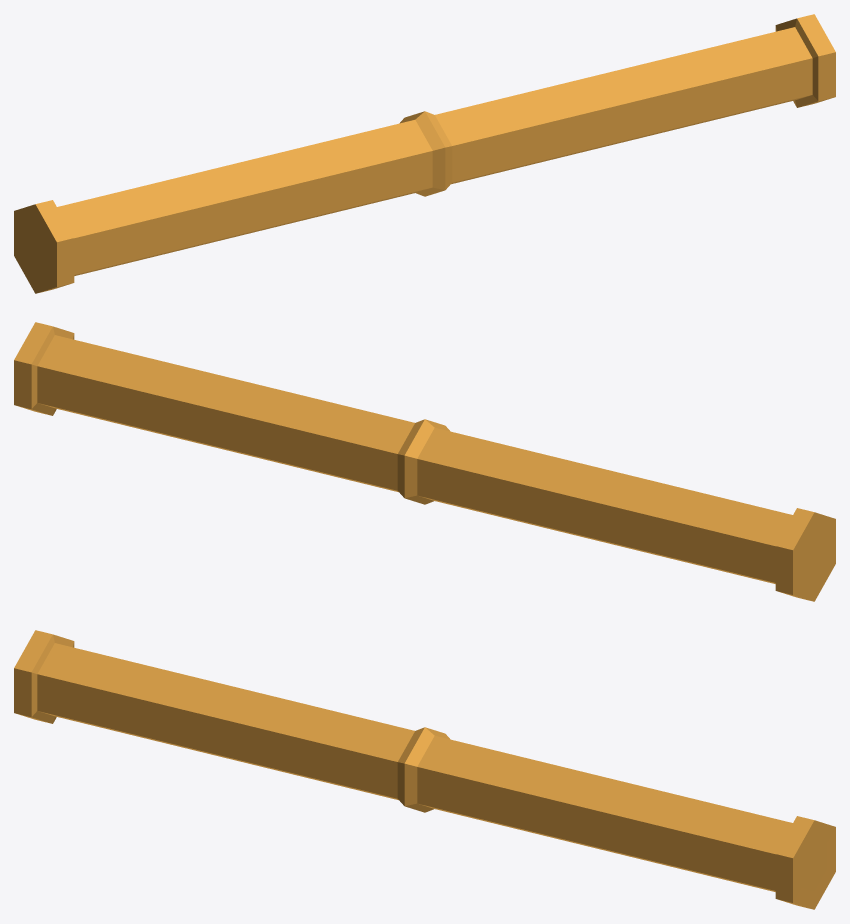
The model's file is scifi-scifi-pipe-corridor.glb.
3 views of the same model, one above another, from view 1: azimuth 30°, elevation 25°; view 2: azimuth 150°, elevation 25°; view 3: azimuth 330°, elevation 25° (orthographic).
Parts seen in each view (by area): view 1: scifi-pipe-corridor; view 2: scifi-pipe-corridor; view 3: scifi-pipe-corridor.
Part boxes in pixels (box(x1,y1,x2,y2)): scifi-pipe-corridor: box(14, 14, 835, 293); scifi-pipe-corridor: box(14, 322, 835, 601); scifi-pipe-corridor: box(14, 630, 835, 909).
Bounding box in the file's own units: 4 × 0.44 × 0.3811.
